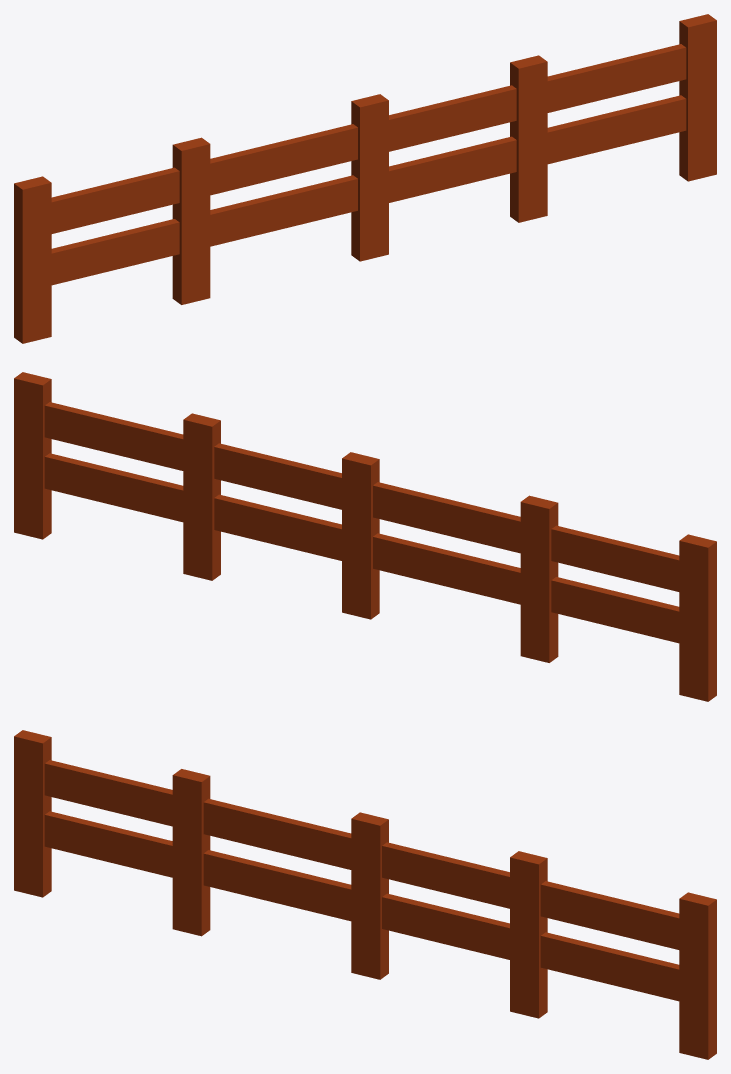
Rendered from Fence.obj.
3 renders of one model, top to bottom at view 1: azimuth 30°, elevation 25°; view 2: azimuth 150°, elevation 25°; view 3: azimuth 330°, elevation 25°, orthographic.
Parts seen in each view (by area): view 1: Cube, Cube.006, Cube.003, Cube.005, Cube.004, Cube.002, Cube.001; view 2: Cube, Cube.006, Cube.003, Cube.005, Cube.004, Cube.002, Cube.001; view 3: Cube, Cube.006, Cube.002, Cube.005, Cube.001, Cube.003, Cube.004.
Part boxes in pixels (x1,y1,x2,y2): Cube: (51, 95, 686, 285); Cube.006: (51, 44, 686, 233); Cube.003: (14, 176, 51, 343); Cube.005: (172, 137, 210, 304); Cube.004: (510, 55, 547, 222); Cube.002: (679, 14, 716, 181); Cube.001: (351, 94, 388, 261); Cube: (44, 453, 679, 643); Cube.006: (44, 402, 679, 591); Cube.003: (679, 534, 716, 701); Cube.005: (520, 495, 558, 662); Cube.004: (183, 413, 220, 580); Cube.002: (14, 372, 51, 539); Cube.001: (342, 452, 379, 619); Cube: (44, 811, 679, 1001); Cube.006: (44, 760, 679, 949); Cube.002: (679, 892, 716, 1059); Cube.005: (172, 769, 210, 936); Cube.001: (351, 812, 388, 979); Cube.003: (14, 730, 51, 897); Cube.004: (510, 851, 547, 1018).
Bounding box in the file's own units: 14.37 × 3.05 × 0.3121.
